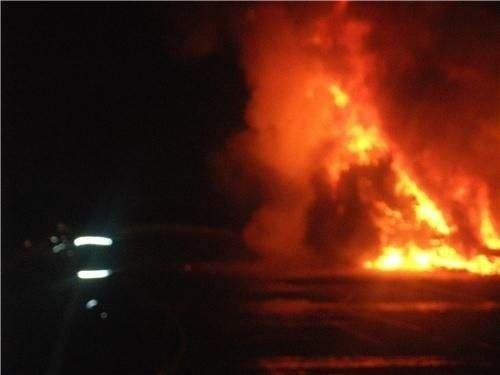fire: (315, 75, 500, 276)
